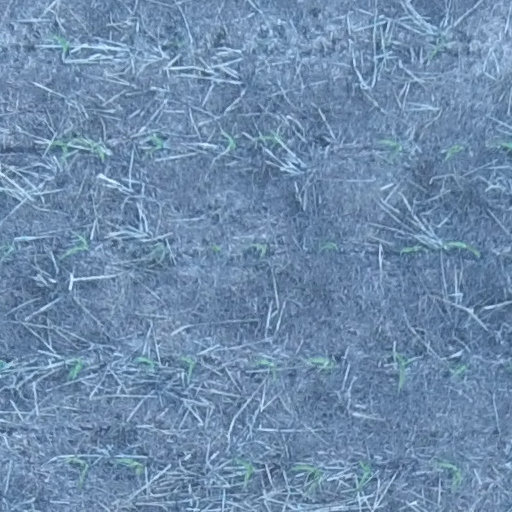planta: (292, 464, 322, 496), (388, 351, 410, 389), (435, 460, 463, 489), (72, 137, 107, 160), (439, 239, 480, 257), (63, 232, 90, 257), (67, 457, 89, 487), (353, 461, 372, 493), (234, 456, 254, 482), (381, 138, 403, 160), (50, 138, 68, 163), (256, 358, 278, 378), (117, 458, 144, 474), (309, 356, 333, 372), (68, 356, 83, 381), (180, 356, 196, 379), (443, 143, 462, 162), (260, 134, 284, 149), (144, 134, 164, 152), (430, 37, 446, 59), (51, 34, 70, 52), (402, 242, 426, 255), (136, 356, 157, 368), (252, 244, 266, 258)
